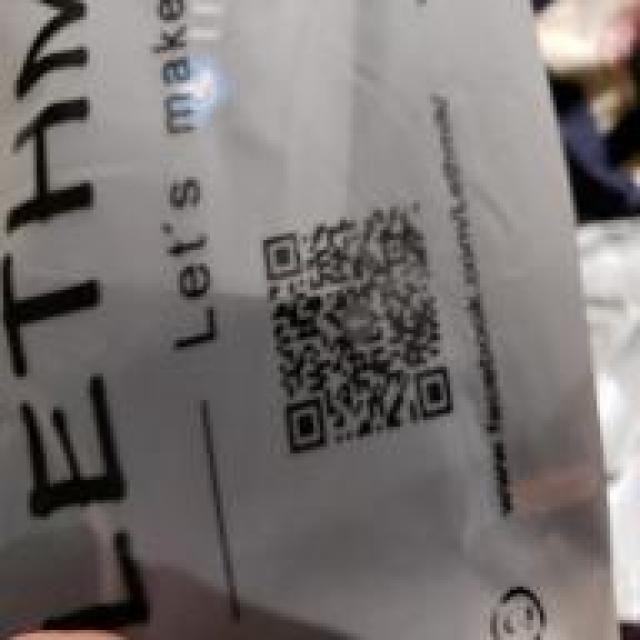qr_code: (261, 200, 455, 454)
